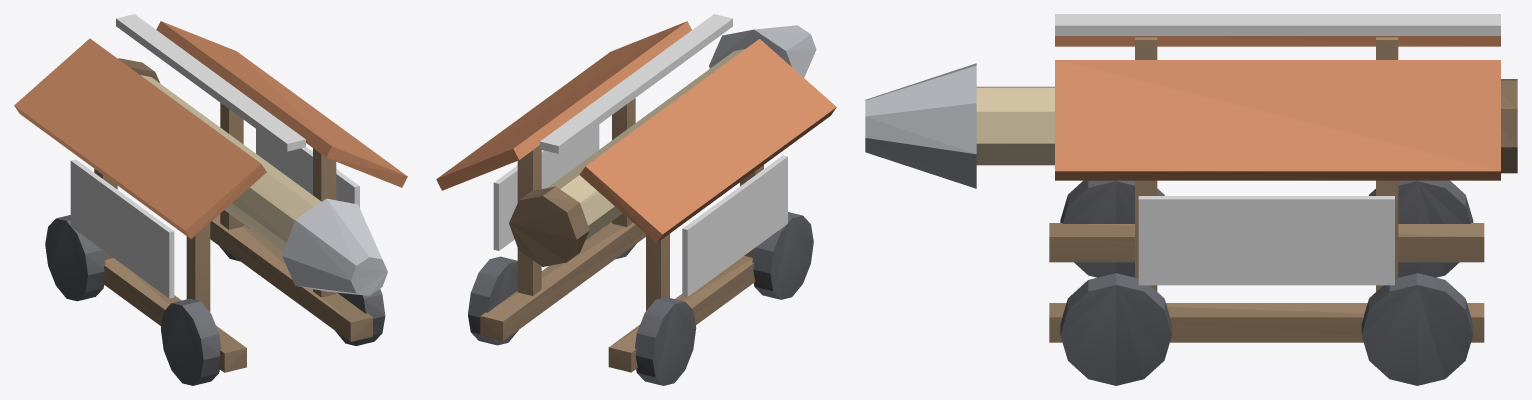
The model's file is Battering Ram.glb.
3 renders of one model, left to right at view 1: azimuth 30°, elevation 25°; view 2: azimuth 150°, elevation 25°; view 3: azimuth 270°, elevation 25°, orthographic. The views are drawn at different scales.
Parts seen in each view (by area): view 1: Body; view 2: Body; view 3: Body.
Boxes of the visible parts, x1,y1,x2,y2 form: Body: [14, 14, 407, 385]; Body: [436, 14, 836, 385]; Body: [865, 14, 1517, 385].
Bounding box in the file's own units: 0.6003 × 0.61 × 1.17.
